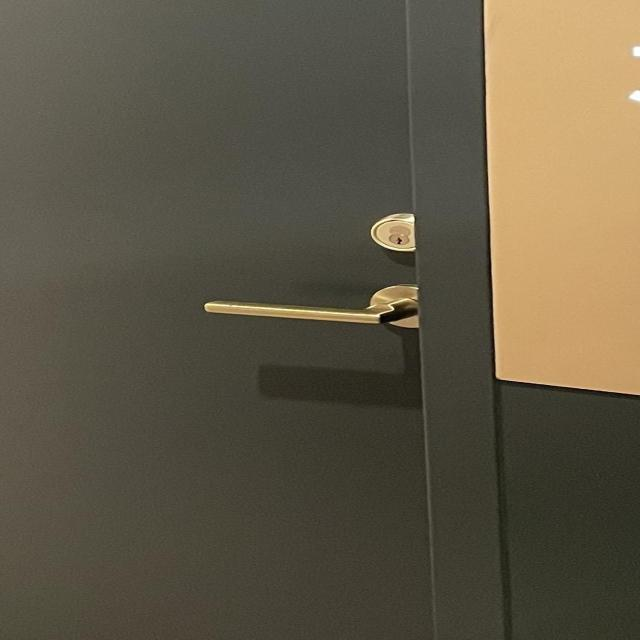door_handle: (194, 281, 446, 347)
